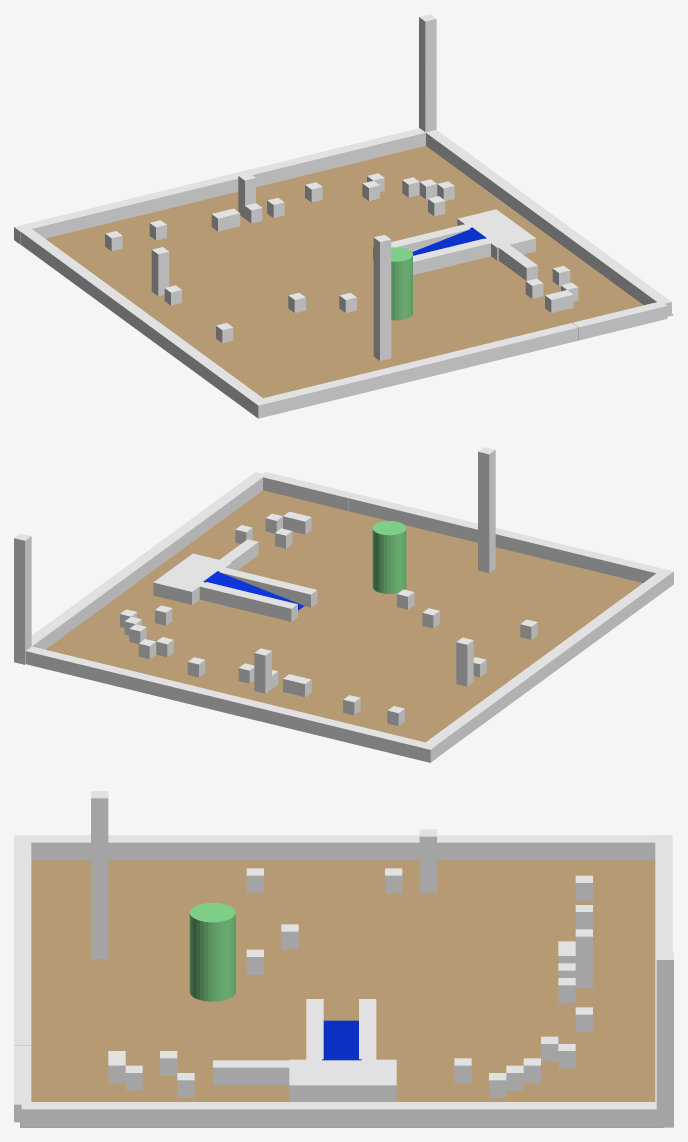
Rendered from debug_map02.glb.
3 views of the same model, one above another, from view 1: azimuth 30°, elevation 25°; view 2: azimuth 150°, elevation 25°; view 3: azimuth 270°, elevation 25° (orthographic). The views are drawn at different scales.
Visible parts, largest first — view 1: MazeFloor, Wall_10_1, Wall_30_28.001, Wall_26_18, Wall_0_0.001, Wall_28_19.001, Wall_28_19, Wall_26_7, Wall_1_20, Wall_Slope_Test, Wall_14_29; view 2: MazeFloor, Wall_0_0.001, Wall_30_28.001, Wall_10_1, Wall_26_18, Wall_28_19, Wall_28_19.001, Wall_1_20, Wall_14_29, Wall_Slope_Test, Wall_26_7; view 3: MazeFloor, Wall_26_18, Wall_0_0.001, Wall_30_28.001, Wall_10_1, Wall_26_7, Wall_Slope_Test, Wall_1_20, Wall_28_19, Wall_28_19.001, Wall_14_29.
Part boxes in pixels (left/top/right/bottom): MazeFloor: left=45, top=146, right=673, bottom=397; Wall_10_1: left=373, top=234, right=391, bottom=360; Wall_30_28.001: left=419, top=14, right=436, bottom=132; Wall_26_18: left=457, top=209, right=535, bottom=260; Wall_0_0.001: left=391, top=247, right=412, bottom=320; Wall_28_19.001: left=413, top=237, right=491, bottom=274; Wall_28_19: left=373, top=224, right=469, bottom=259; Wall_26_7: left=498, top=244, right=537, bottom=280; Wall_1_20: left=151, top=247, right=169, bottom=296; Wall_Slope_Test: left=412, top=227, right=486, bottom=255; Wall_14_29: left=238, top=173, right=255, bottom=218; MazeFloor: left=46, top=490, right=642, bottom=742; Wall_0_0.001: left=372, top=521, right=406, bottom=593; Wall_30_28.001: left=14, top=533, right=31, bottom=664; Wall_10_1: left=478, top=447, right=495, bottom=573; Wall_26_18: left=153, top=553, right=231, bottom=604; Wall_28_19: left=195, top=580, right=297, bottom=621; Wall_28_19.001: left=214, top=566, right=317, bottom=607; Wall_1_20: left=456, top=637, right=473, bottom=686; Wall_14_29: left=254, top=648, right=271, bottom=693; Wall_Slope_Test: left=203, top=571, right=303, bottom=610; Wall_26_7: left=219, top=539, right=258, bottom=570; MazeFloor: left=20, top=860, right=663, bottom=1127; Wall_26_18: left=289, top=1059, right=396, bottom=1101; Wall_0_0.001: left=189, top=903, right=235, bottom=1001; Wall_30_28.001: left=656, top=952, right=673, bottom=1127; Wall_10_1: left=91, top=791, right=108, bottom=958; Wall_26_7: left=213, top=1060, right=290, bottom=1085; Wall_Slope_Test: left=322, top=1020, right=361, bottom=1060; Wall_1_20: left=419, top=829, right=436, bottom=893; Wall_28_19: left=359, top=999, right=376, bottom=1062; Wall_28_19.001: left=306, top=999, right=323, bottom=1062; Wall_14_29: left=575, top=929, right=592, bottom=988.
Size of the model in its own units: 301 by 105 by 305.
